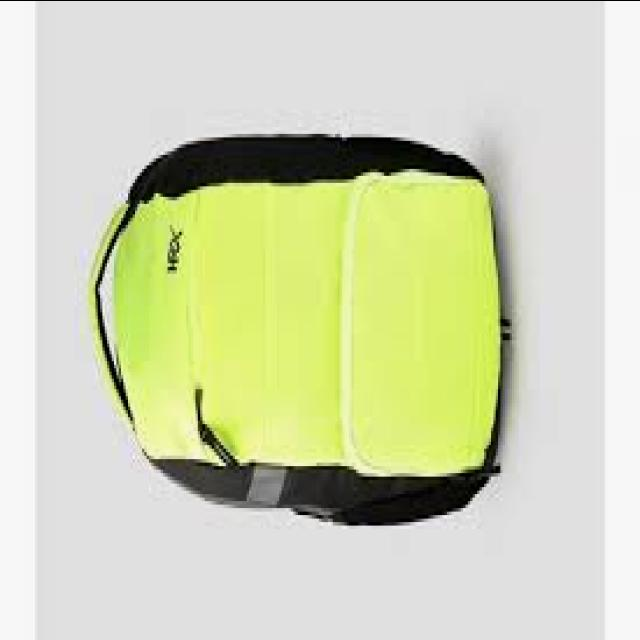backpack: (87, 134, 511, 529)
